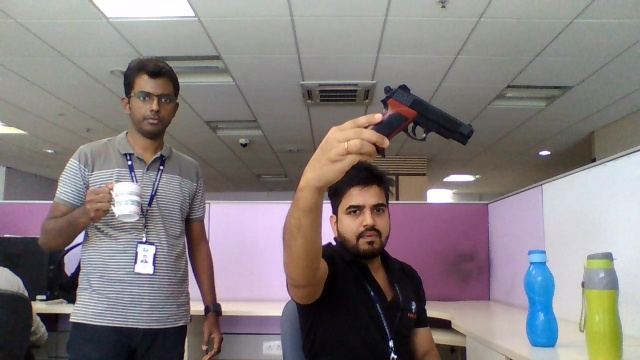gun: (380, 82, 475, 148)
